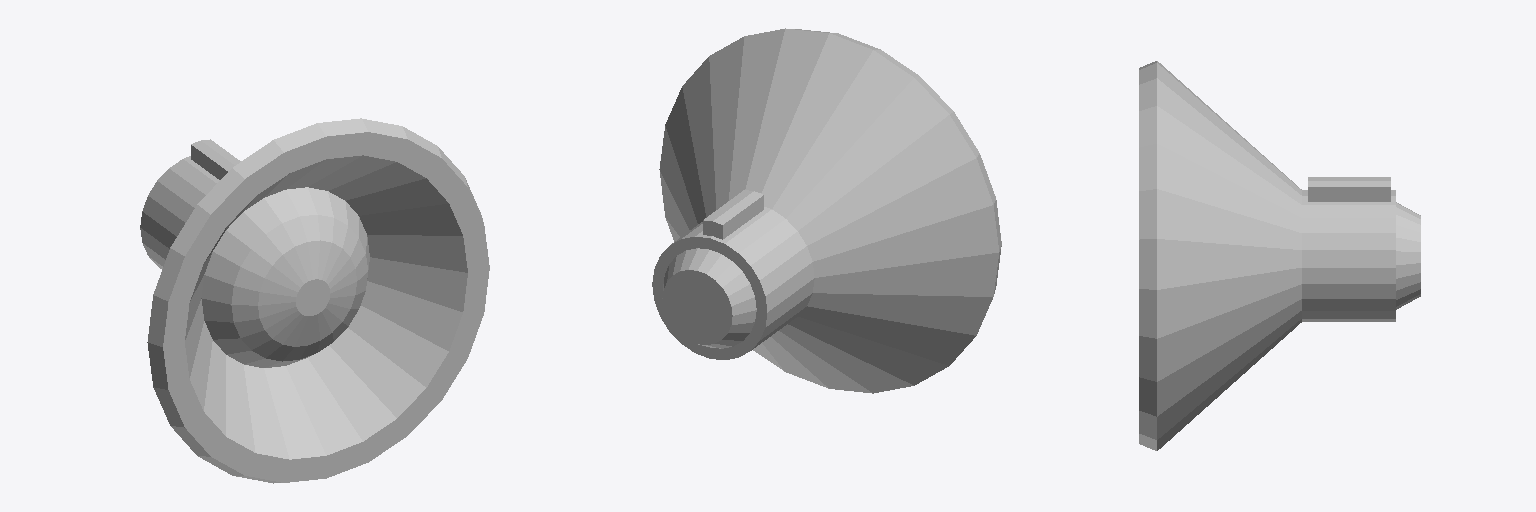
Rendered from Lamp.obj.
3 views of the same model, side by side, from view 1: azimuth 30°, elevation 25°; view 2: azimuth 150°, elevation 25°; view 3: azimuth 270°, elevation 25° (orthographic).
Visible parts, largest first — view 1: Cone001; view 2: Cone001; view 3: Cone001.
Part boxes in pixels (x1,y1,x2,y2): Cone001: (140, 118, 489, 483); Cone001: (652, 28, 1001, 393); Cone001: (1139, 61, 1420, 450).
Bounding box in the file's own units: 40.9 × 40.9 × 29.36.